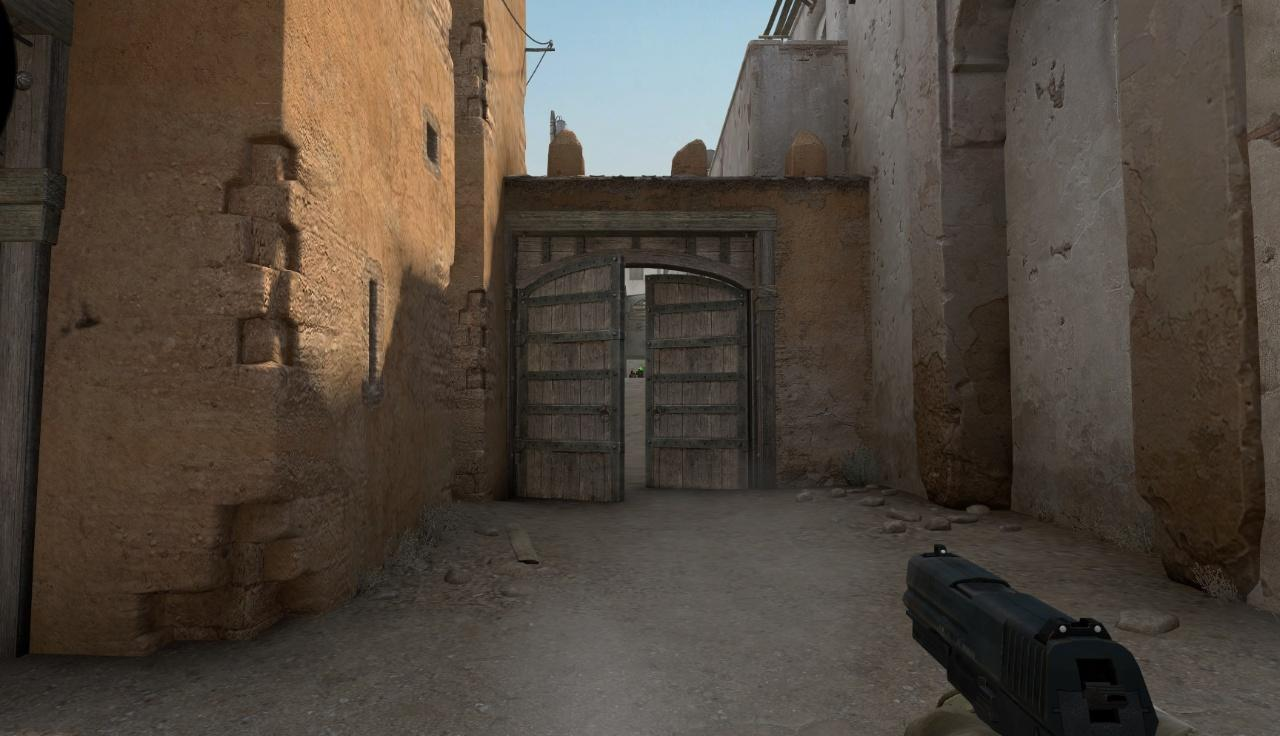pistol: (904, 547, 1177, 736)
tt: (637, 367, 644, 378), (629, 370, 636, 378)
